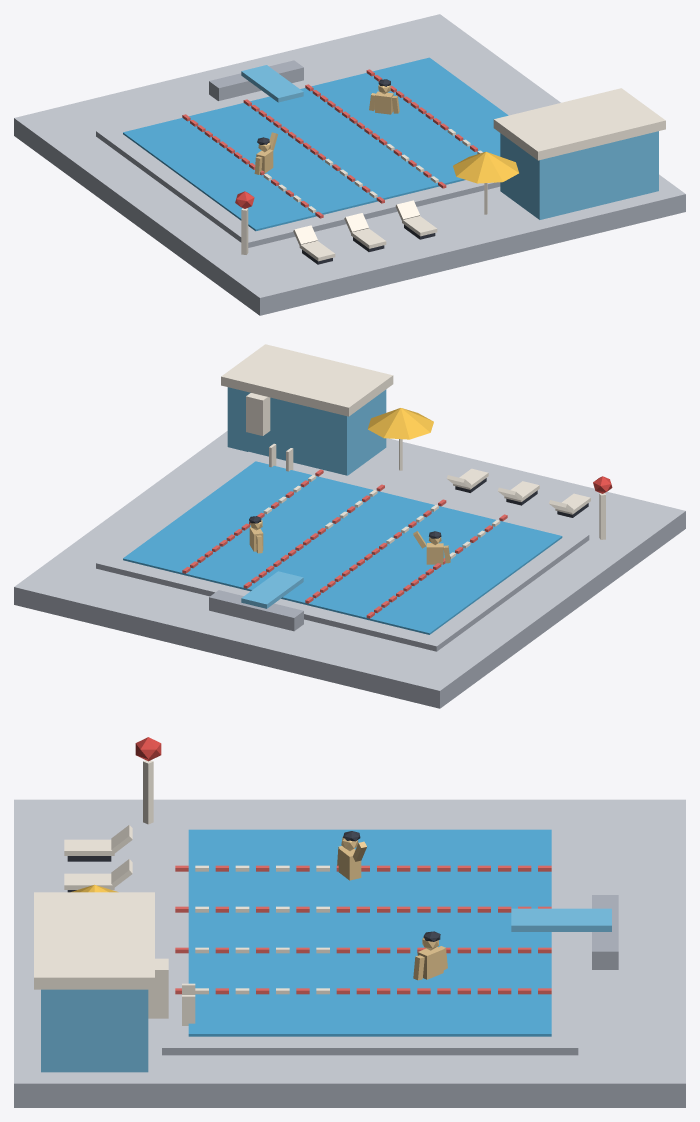
File: sport_pool.glb
The picture shows the model from 3 angles, top to bottom: view 1: azimuth 30°, elevation 25°; view 2: azimuth 150°, elevation 25°; view 3: azimuth 270°, elevation 25°; orthographic projection. The views are drawn at different scales.
Parts seen in each view (by area): view 1: sport_pool; view 2: sport_pool; view 3: sport_pool.
Part boxes in pixels (x1=…): sport_pool: x1=14, y1=14, x2=685, y2=315; sport_pool: x1=14, y1=344, x2=685, y2=708; sport_pool: x1=14, y1=737, x2=685, y2=1107.
Size of the model in its own units: 1 by 0.2 by 1.
